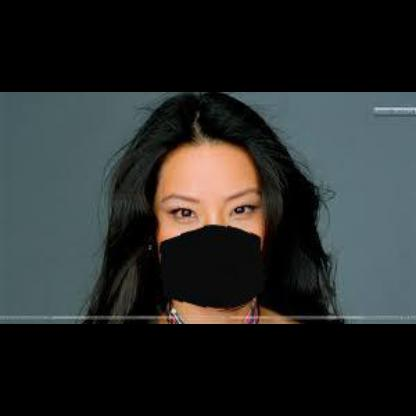Fabric/Cloth Mask: (155, 170, 263, 300)
